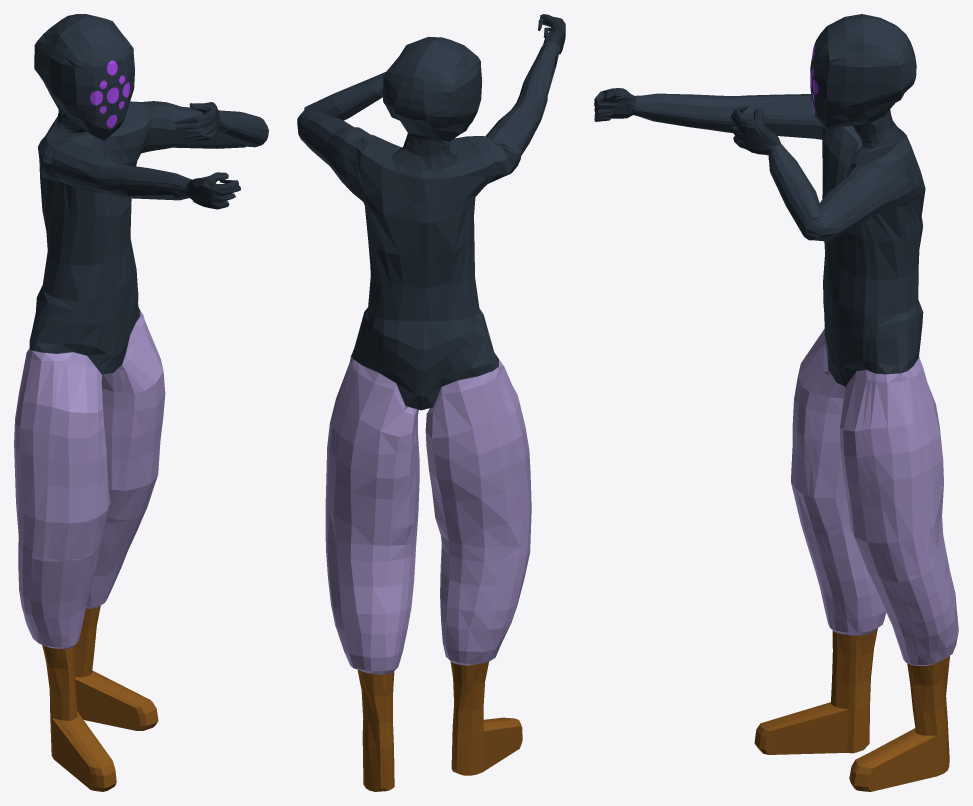
The model's file is Oracle_Attack_000016.obj.
3 renders of one model, left to right at view 1: azimuth 30°, elevation 25°; view 2: azimuth 150°, elevation 25°; view 3: azimuth 270°, elevation 25°, orthographic. The views are drawn at different scales.
Visible parts, largest first — view 1: Cube; view 2: Cube; view 3: Cube.
Boxes of the visible parts, x1,y1,x2,y2 form: Cube: [14, 14, 268, 791]; Cube: [297, 14, 565, 791]; Cube: [594, 14, 958, 791].
Bounding box in the file's own units: 1.33 × 3.94 × 1.74.
